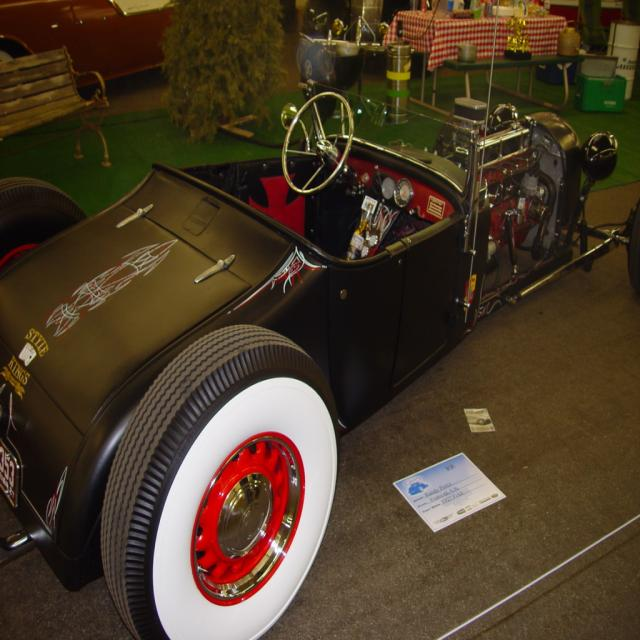car: (0, 82, 521, 622)
